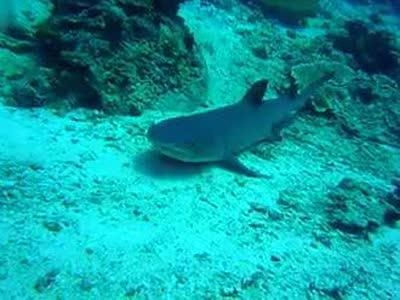fish: (149, 69, 334, 173)
